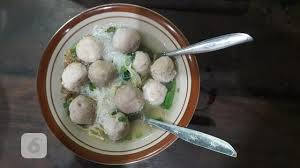bakso: (64, 28, 180, 141)
